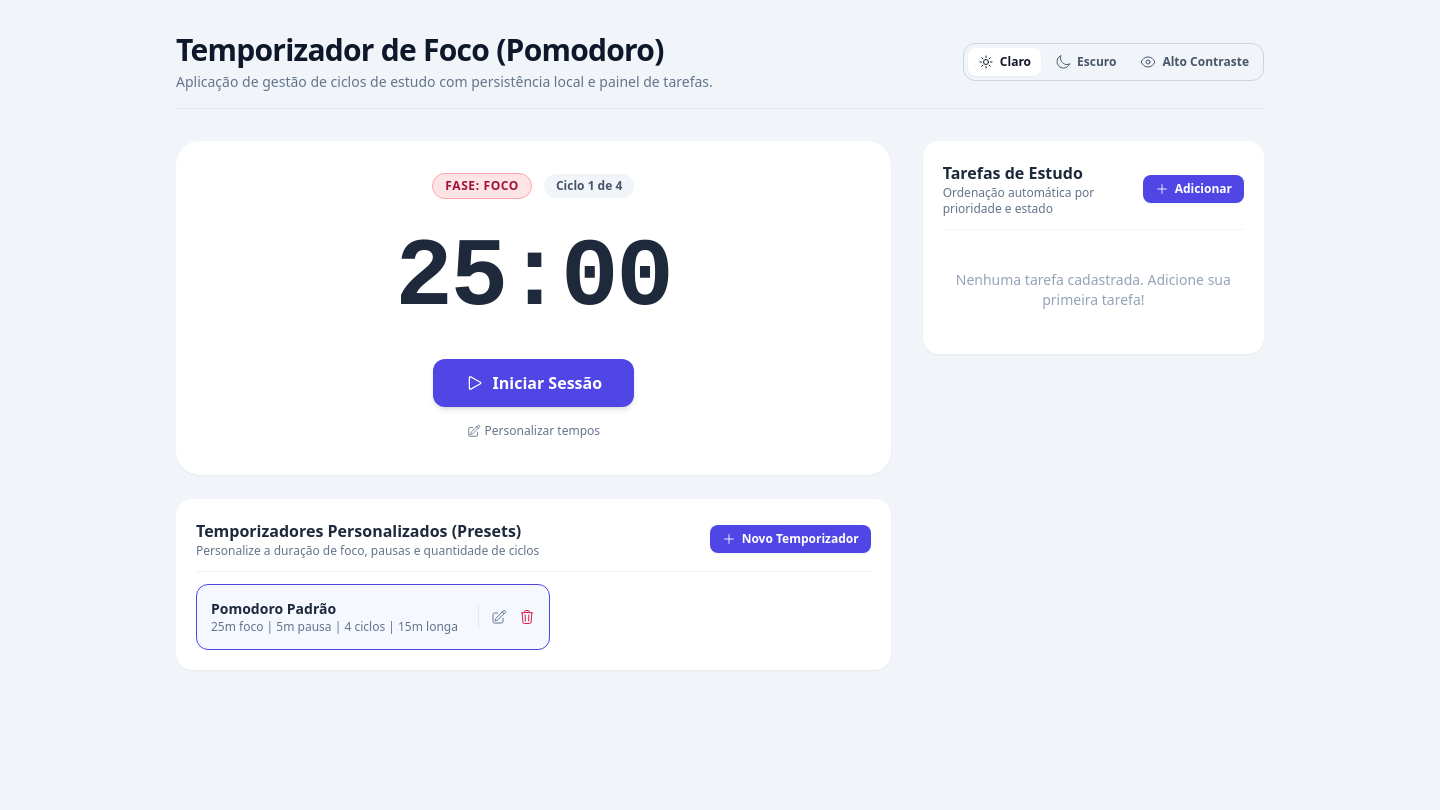
Test: App Integrado (Pomodoro + Presets + Tarefas) › deve alternar entre modo claro, escuro e alto contraste salvando no localStorage
Expected: the button with aria-label "Ativar modo claro" is shown, 968,48 -> 1041,76
Expected: the button with aria-label "Ativar modo alto contraste" is shown, 1130,48 -> 1259,76
Clicar para ativar modo escuro
Click the button with aria-label "Ativar modo escuro": (1086, 62) 1045,48 -> 1126,76
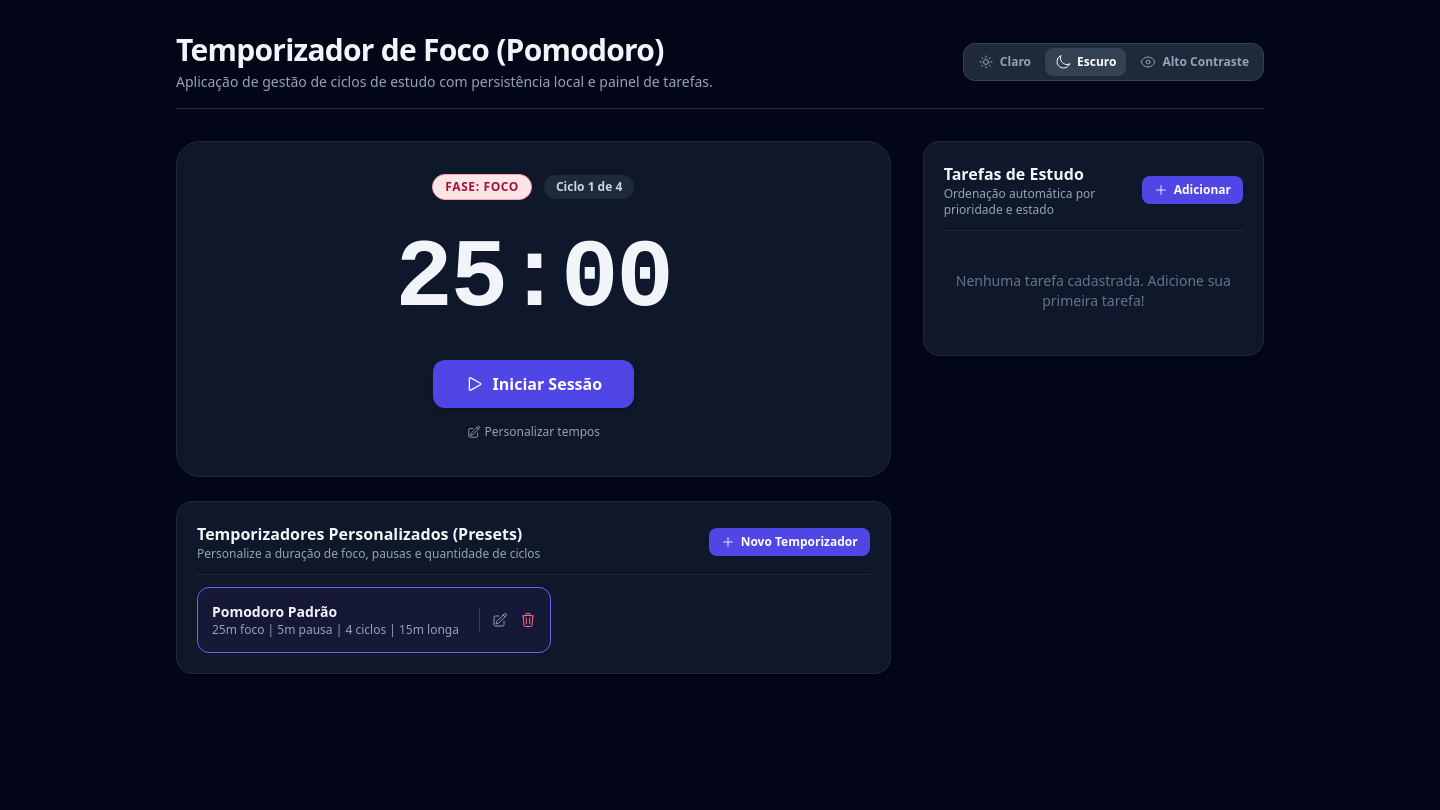
Now the button with aria-label "Ativar modo escuro" is pressed, box 1045,48 -> 1126,76
Clicar para ativar modo alto contraste
Click the button with aria-label "Ativar modo alto contraste": (1195, 62) 1130,48 -> 1259,76
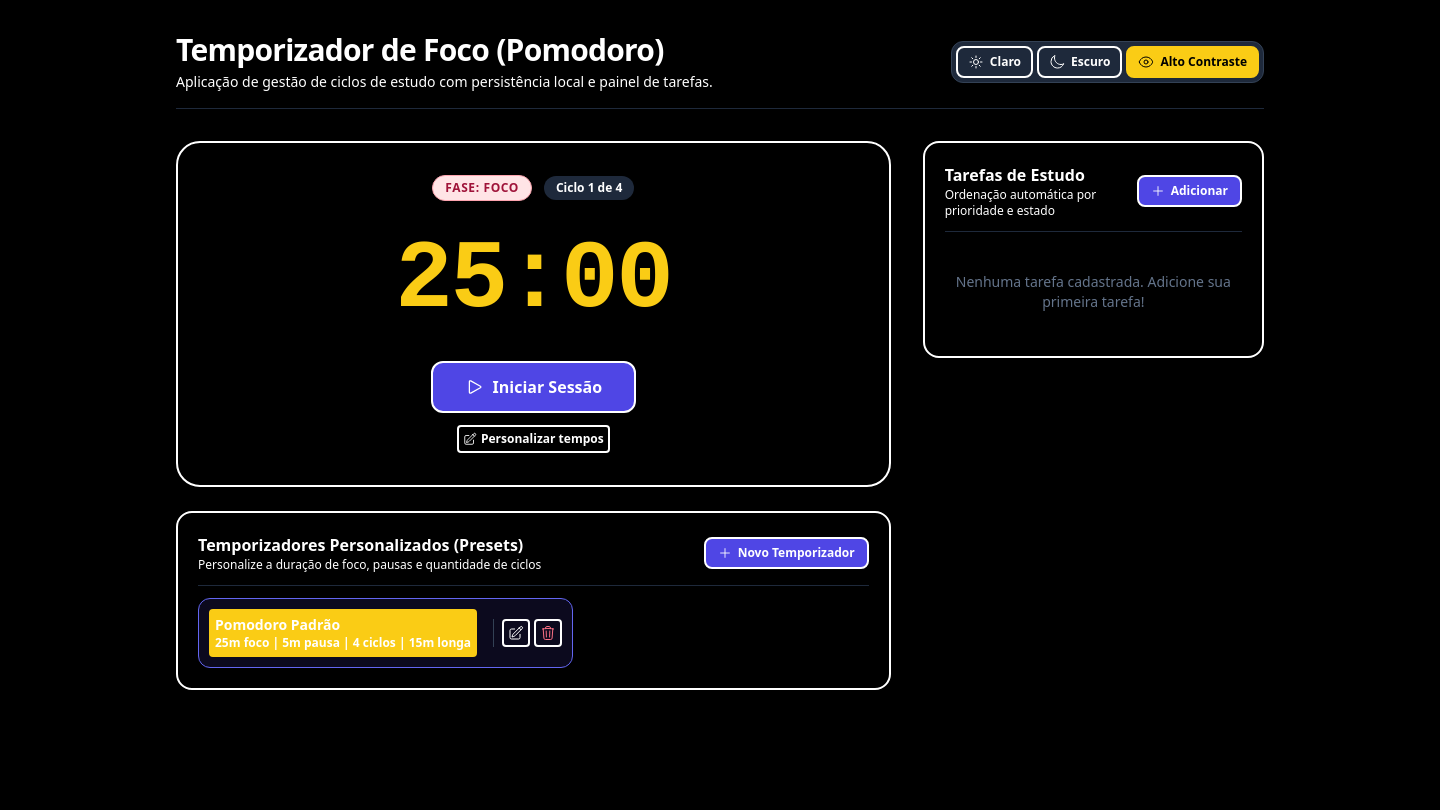
Now the button with aria-label "Ativar modo alto contraste" is pressed, box 1126,46 -> 1259,78
Voltar para o claro
Click the button with aria-label "Ativar modo claro": (994, 62) 956,46 -> 1033,78
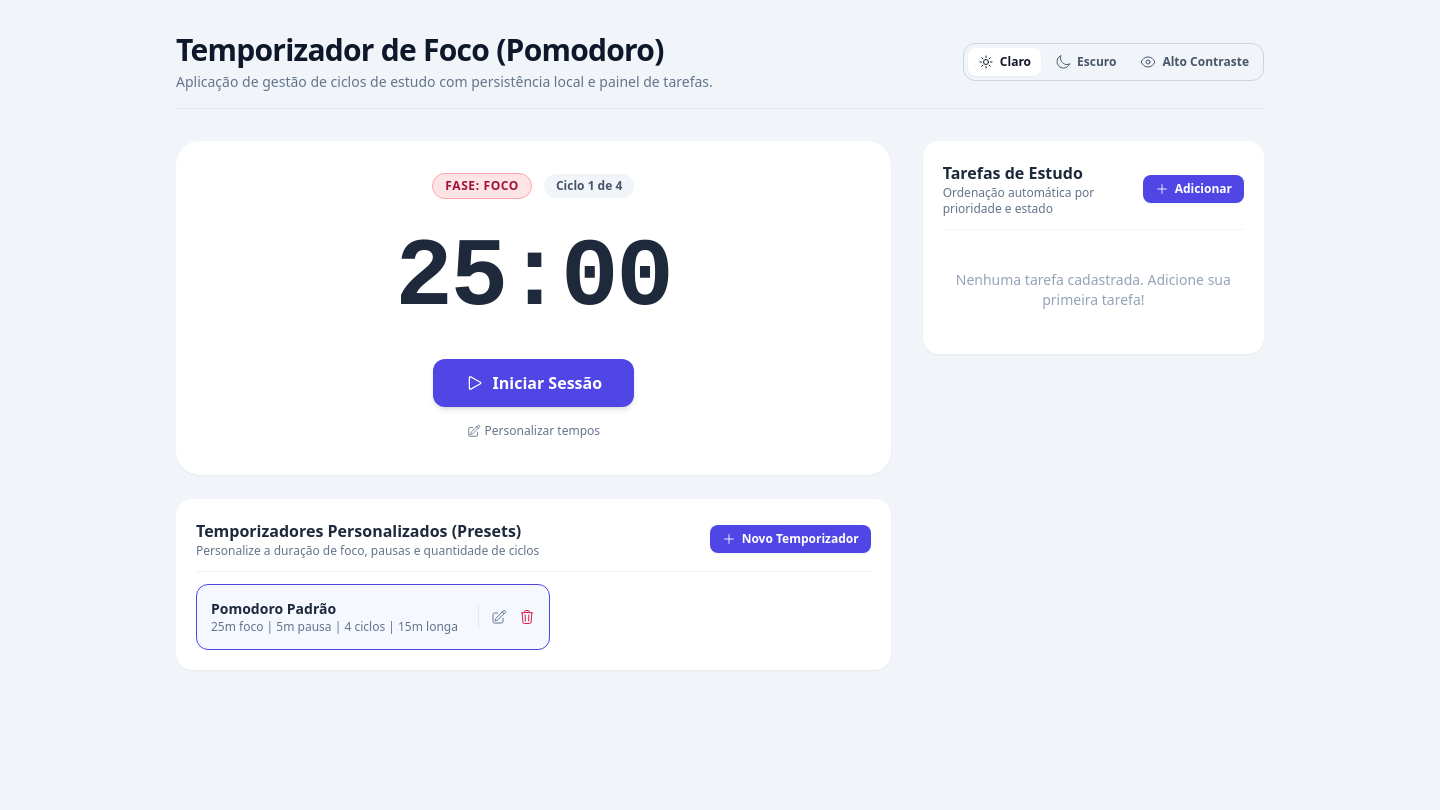
Now the button with aria-label "Ativar modo claro" is pressed, box 968,48 -> 1041,76
